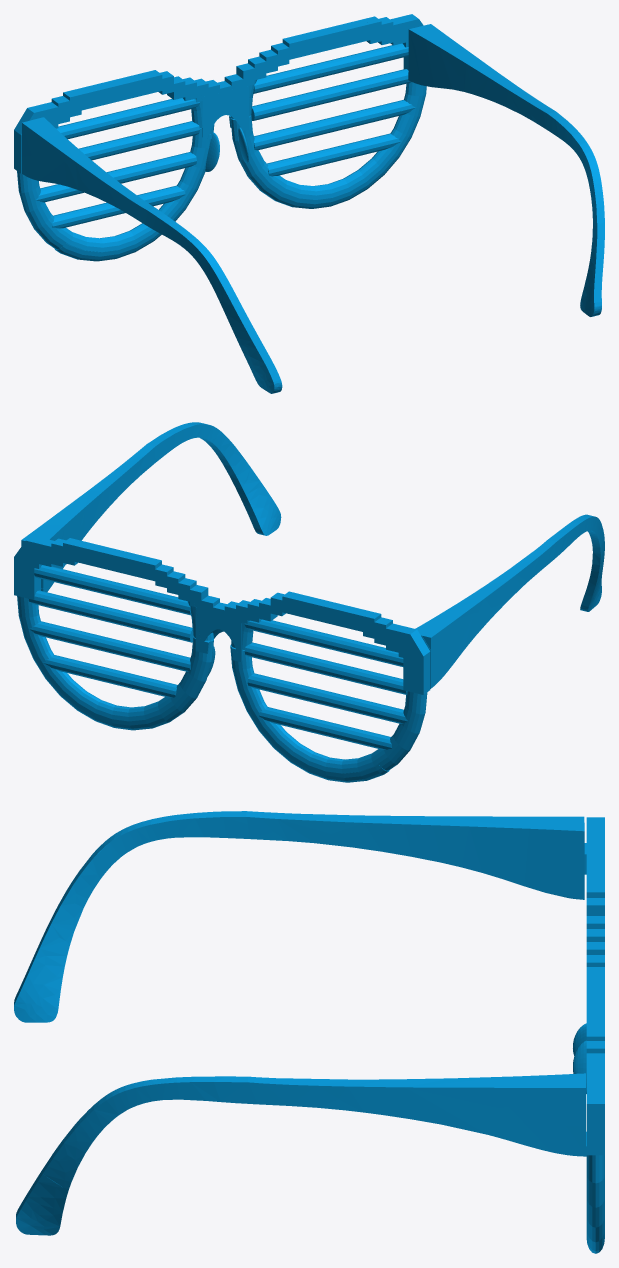
File: party_plaza_blue_glasses.obj
3 renders of one model, top to bottom at view 1: azimuth 30°, elevation 25°; view 2: azimuth 150°, elevation 25°; view 3: azimuth 270°, elevation 25°, orthographic. The views are drawn at different scales.
Visible parts, largest first — view 1: Object.1; view 2: Object.1; view 3: Object.1.
Part boxes in pixels (bbox=[...]): Object.1: bbox=[14, 14, 604, 393]; Object.1: bbox=[14, 422, 604, 782]; Object.1: bbox=[14, 811, 604, 1253].
Bounding box in the file's own units: 138 × 56.52 × 128.
